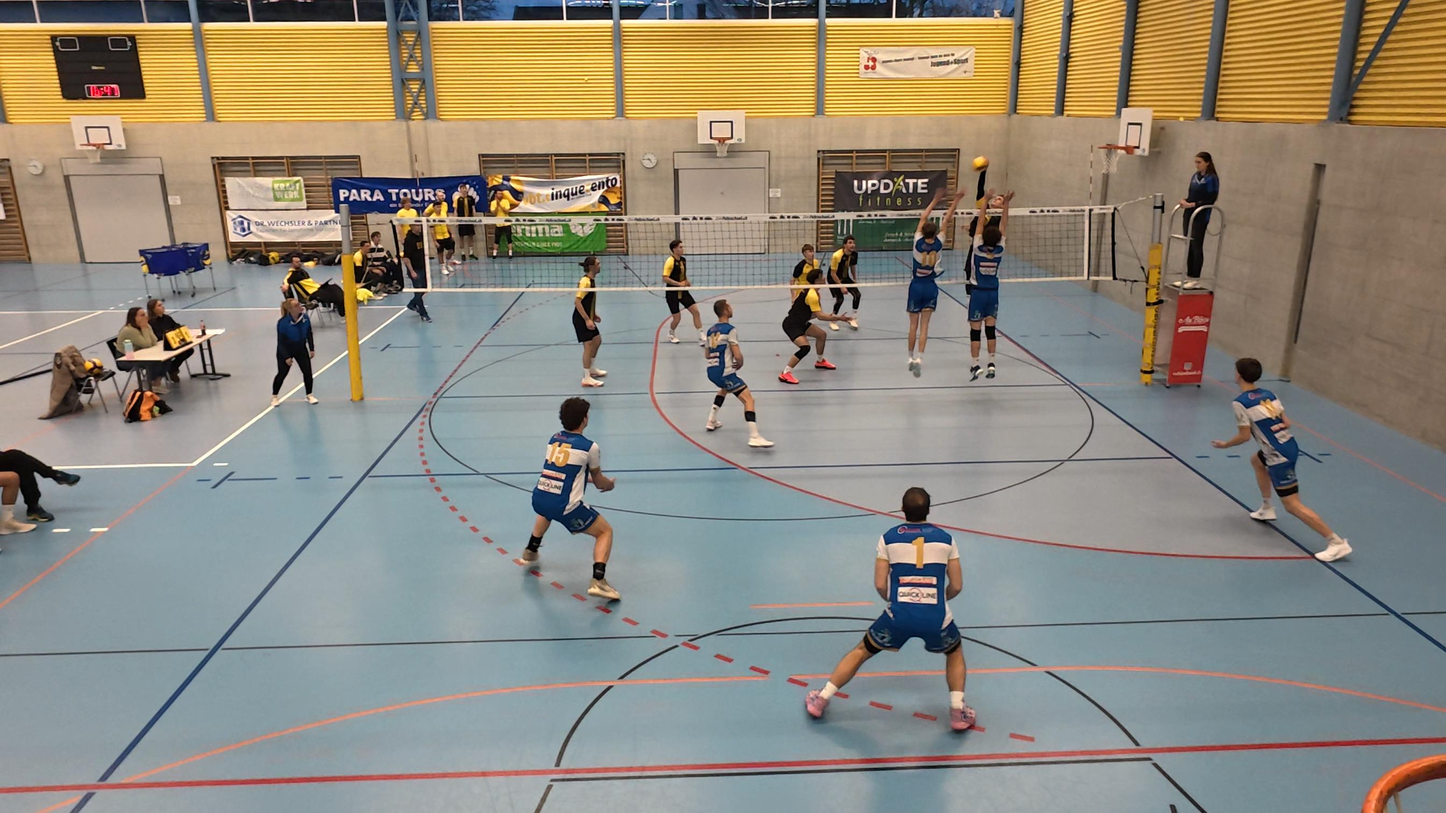Attack: (963, 155, 1010, 243)
Block: (899, 186, 953, 379), (961, 185, 1012, 384)
Player: (805, 486, 980, 732), (1211, 358, 1350, 562), (518, 397, 621, 603), (703, 298, 774, 449), (774, 265, 833, 386), (656, 235, 705, 345), (572, 255, 608, 388), (826, 231, 868, 334), (792, 239, 825, 292)
ball: (970, 156, 989, 172)
